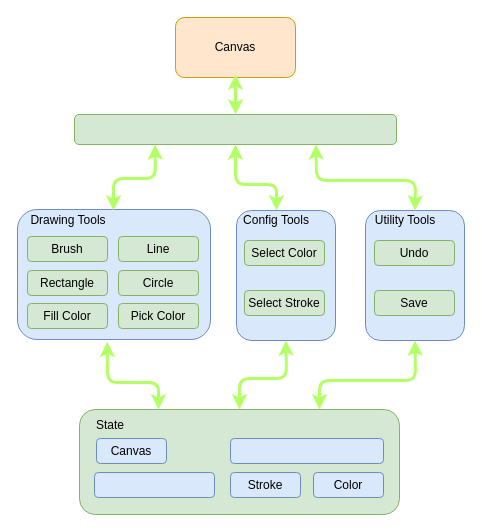
This 482x532 diagram has some shape labels left out. The centre of each missing label's shape, as x and y in pixels:
"Canvas History" goes at point (154, 485).
"Event Bus" goes at point (235, 129).
"Selected Drawing Tool" goes at point (307, 451).
